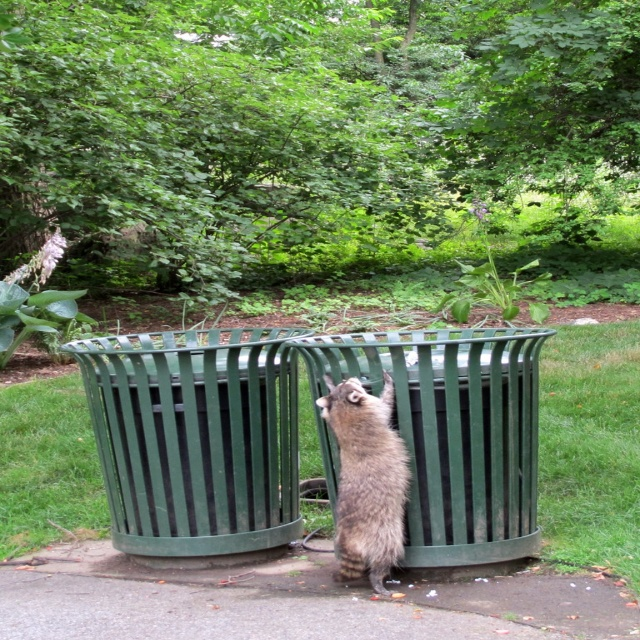Raccoon: (318, 371, 398, 599)
